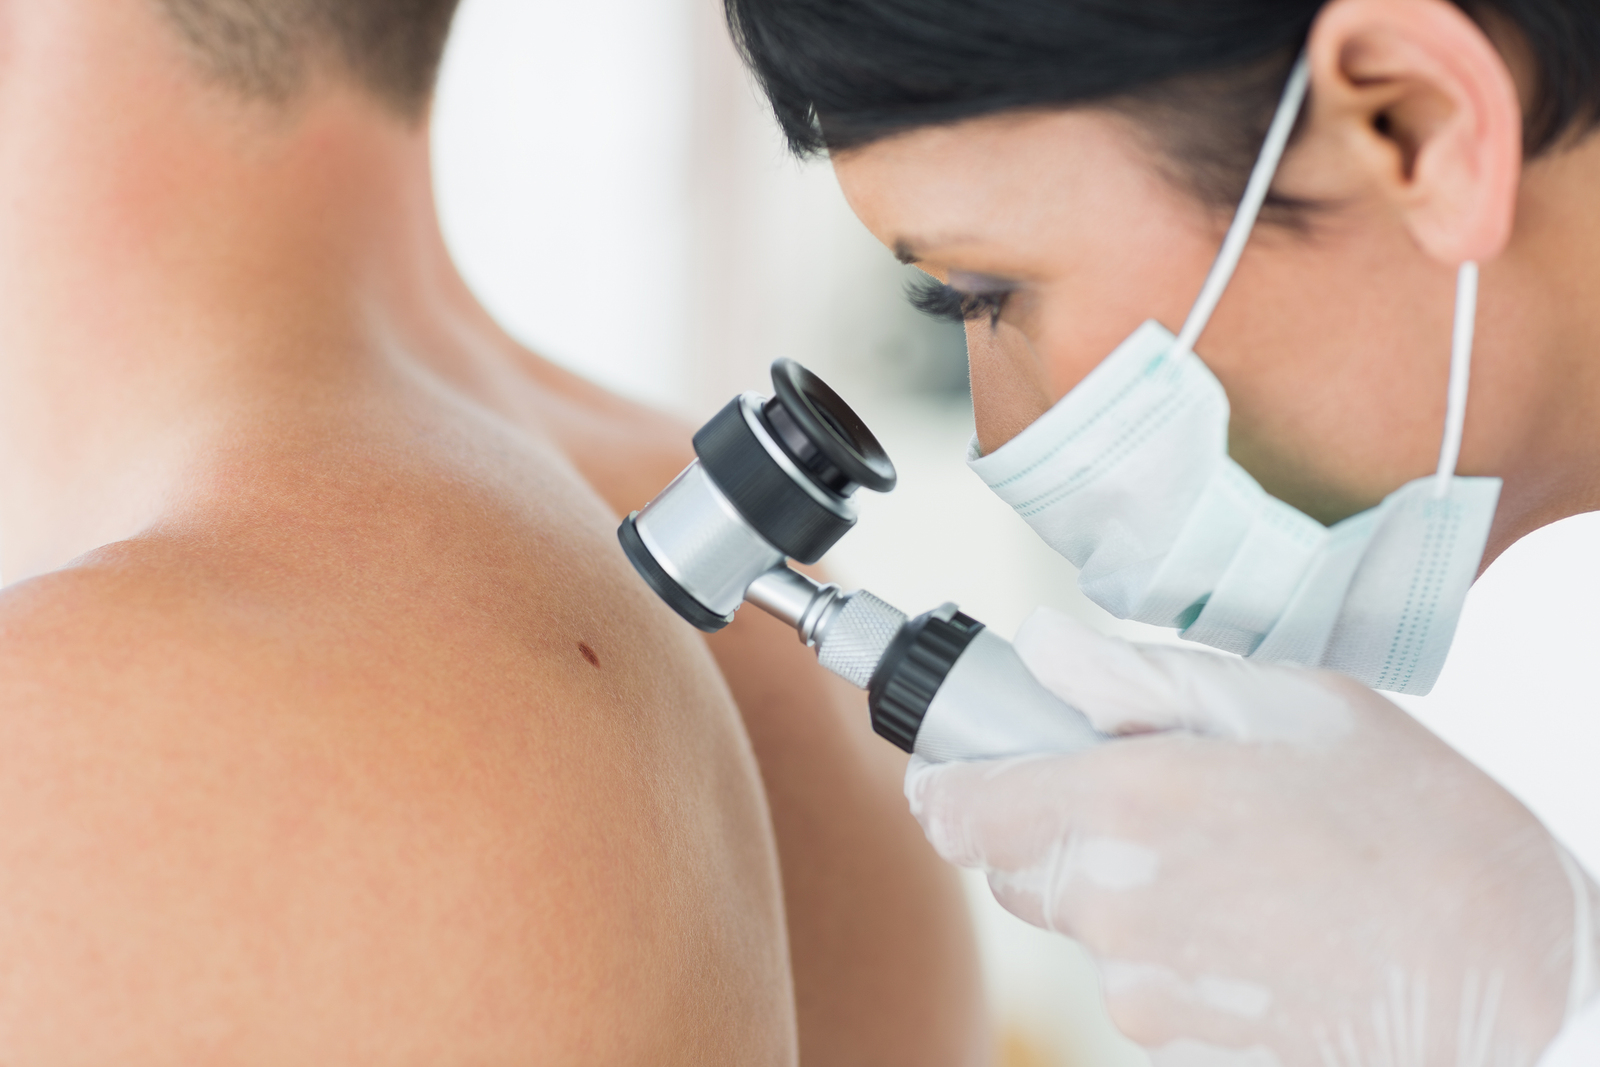mole: (562, 623, 629, 690)
